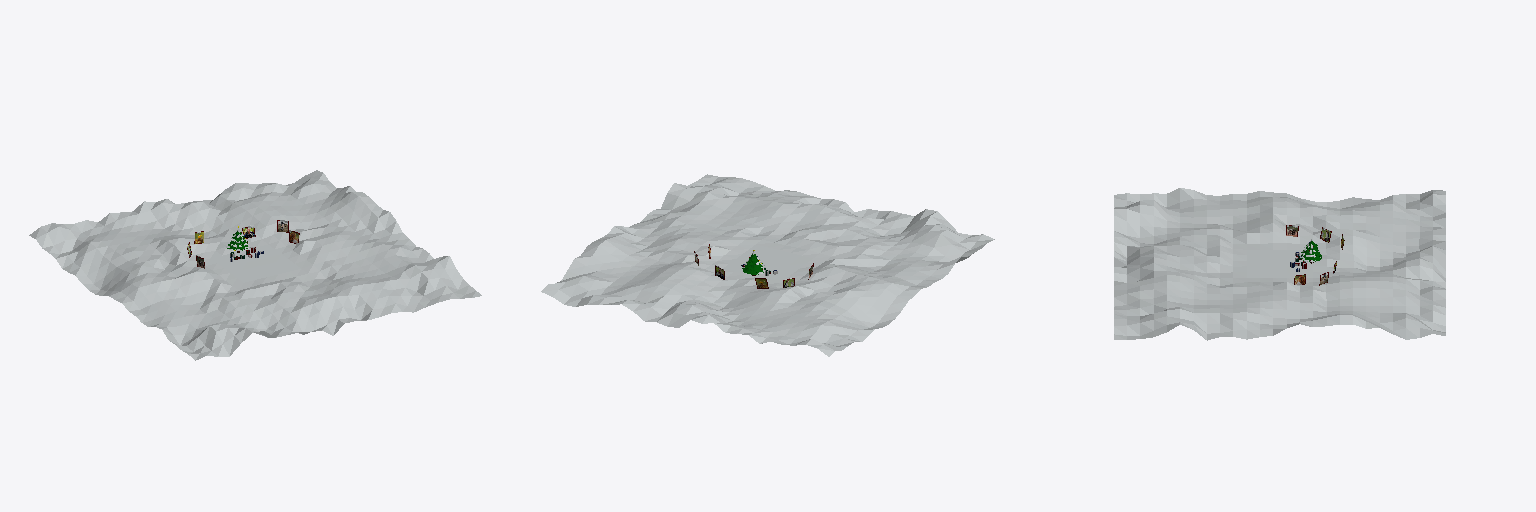
3 renders of one model, left to right at view 1: azimuth 30°, elevation 25°; view 2: azimuth 150°, elevation 25°; view 3: azimuth 270°, elevation 25°, orthographic.
Visible parts, largest first — view 1: terrain; view 2: terrain; view 3: terrain.
Part boxes in pixels (x1,y1,x2,y2): terrain: (29,170,481,360); terrain: (541,174,994,356); terrain: (1114,188,1445,340).
Bounding box in the file's own units: 33.7 × 4.16 × 33.7.
Materials: 14 (6 with a texture image).